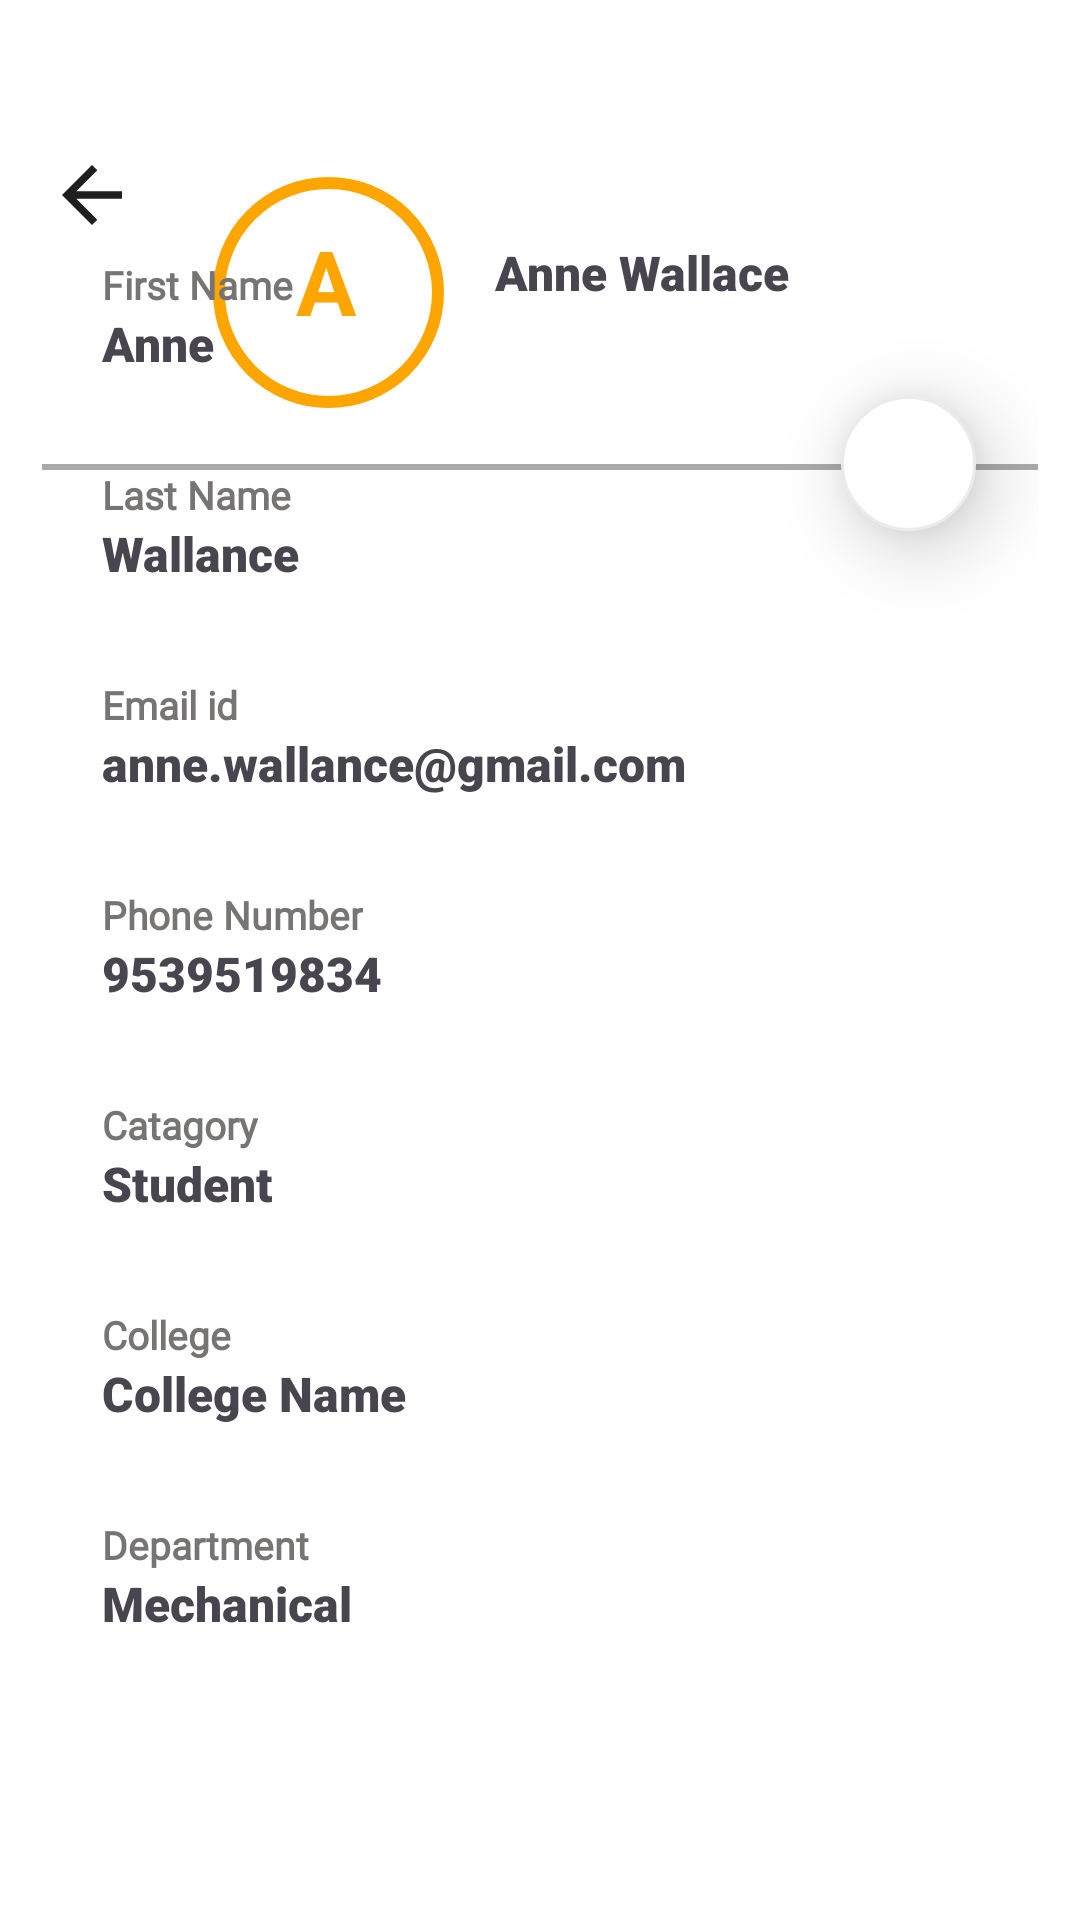

Screen size 1080×1920. Icon name, then its box in pixels as (x1, y1, x2, y2):
Back: (62, 165, 122, 225)
